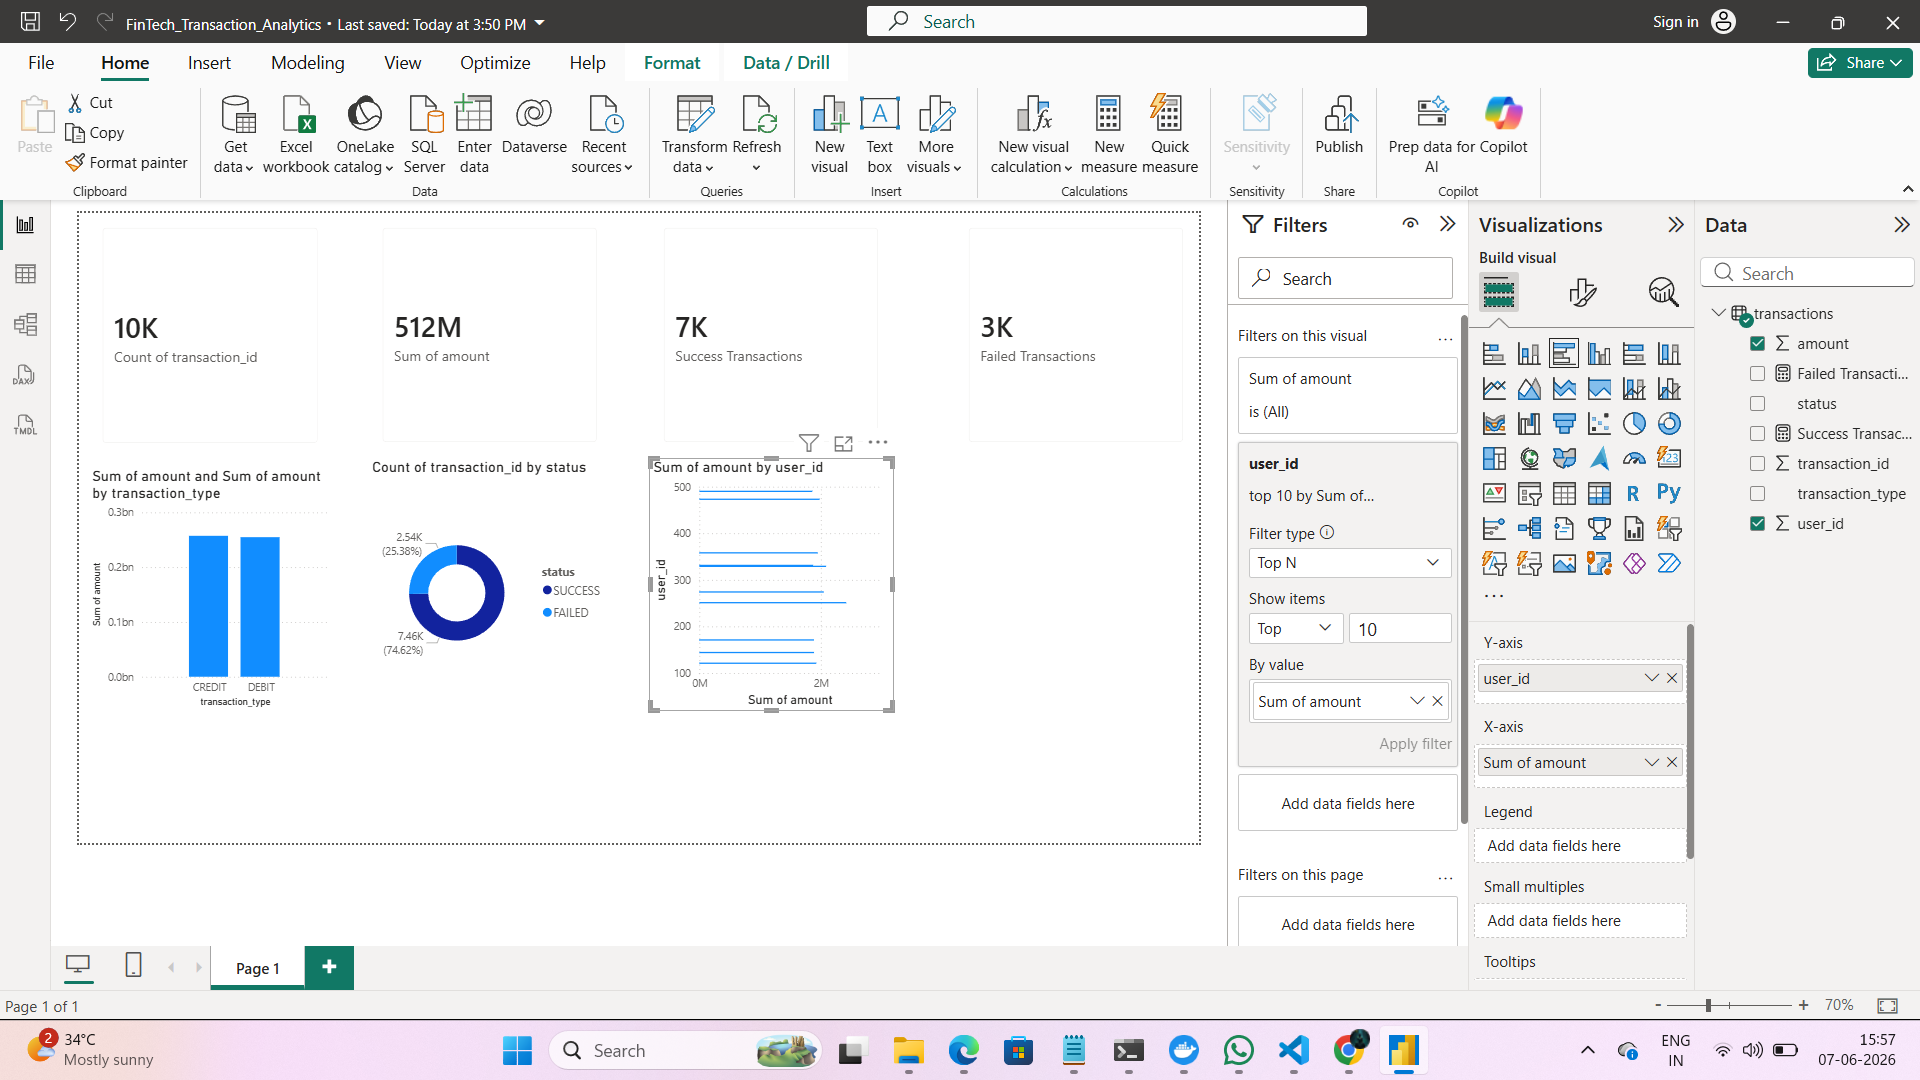

This screenshot's page, from the dashboard's own definition file:
{"tool":"powerbi","page":{"name":"Page 1","canvas":[1280,720],"ordinal":0},"visuals":[{"type":"cardVisual","fields":{"Data":["CountNonNull(transactions.transaction_id)"]},"box":[10,0,280,280],"z":0},{"type":"cardVisual","fields":{"Data":["transactions.Success Transactions"]},"box":[651.8,0,279.9,279.9],"z":1000},{"type":"cardVisual","fields":{"Data":["transactions.Failed Transactions"]},"box":[1000.3,0,279.9,279.9],"z":2000},{"type":"cardVisual","fields":{"Data":["Sum(transactions.amount)"]},"box":[329.3,0,279.9,279.9],"z":3000},{"type":"clusteredColumnChart","fields":{"Category":["transactions.transaction_type"],"Y":["Sum(transactions.amount)","Sum(transactions.amount)"]},"box":[10,290,280,280],"z":4000},{"type":"donutChart","fields":{"Category":["transactions.status"],"Y":["CountNonNull(transactions.transaction_id)"]},"box":[329.3,279.9,279.9,289.5],"z":4002},{"type":"clusteredBarChart","fields":{"Category":["transactions.user_id"],"Y":["Sum(transactions.amount)"]},"box":[651.8,279.9,279.9,289.5],"z":4003}]}

Visuals, with their boxes on the page's 1280x720 design canvas (x1, y1, x2, y2). These are canvas units, not pixel positions in the 1920x1080 screenshot, which may show the page scaled, cropped or inside an application window:
cardVisual - CountNonNull(transactions.transaction_id): (x1=10, y1=0, x2=290, y2=280)
cardVisual - transactions.Success Transactions: (x1=652, y1=0, x2=932, y2=280)
cardVisual - transactions.Failed Transactions: (x1=1000, y1=0, x2=1280, y2=280)
cardVisual - Sum(transactions.amount): (x1=329, y1=0, x2=609, y2=280)
clusteredColumnChart - transactions.transaction_type x Sum(transactions.amount): (x1=10, y1=290, x2=290, y2=570)
donutChart - transactions.status x CountNonNull(transactions.transaction_id): (x1=329, y1=280, x2=609, y2=569)
clusteredBarChart - transactions.user_id x Sum(transactions.amount): (x1=652, y1=280, x2=932, y2=569)
